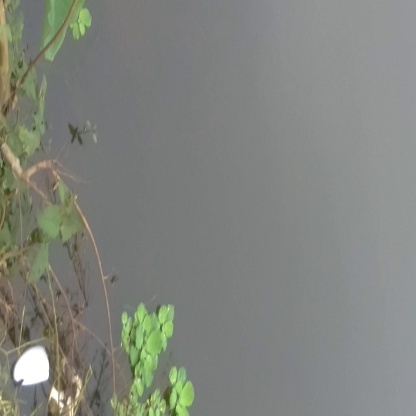leaf: (122, 303, 182, 377)
